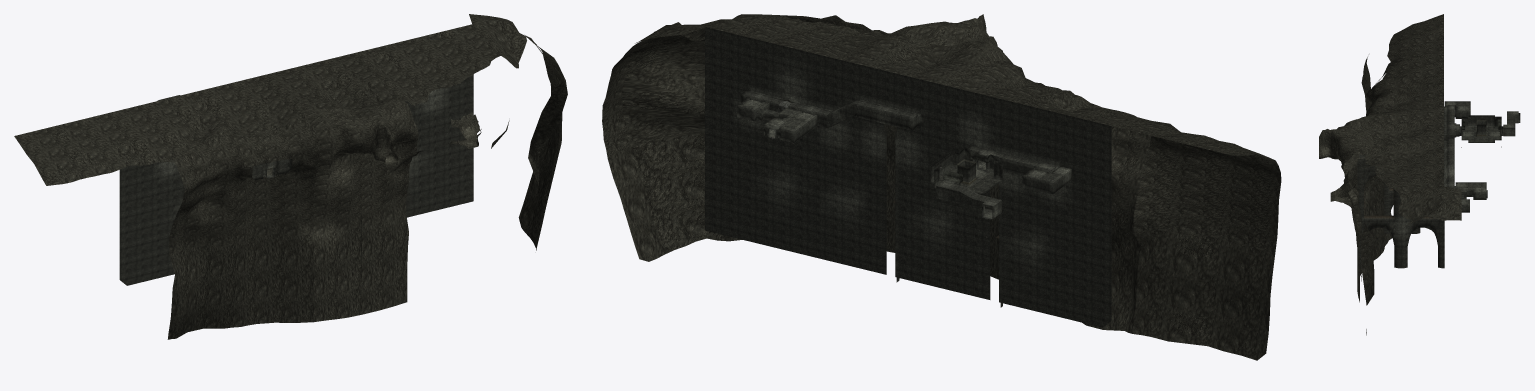
3 renders of one model, left to right at view 1: azimuth 30°, elevation 25°; view 2: azimuth 150°, elevation 25°; view 3: azimuth 270°, elevation 25°, orthographic. The views are drawn at different scales.
Visible parts, largest first — view 1: Chunk-19_Mesh-0, Chunk-28_Mesh-0, Chunk-18_Mesh-0, Chunk-3_Mesh-1, Chunk-0_Mesh-2, Chunk-34_Mesh-0, Chunk-7_Mesh-2; view 2: Chunk-0_Mesh-2, Chunk-32_Mesh-0, Chunk-34_Mesh-0, Chunk-3_Mesh-1, Chunk-19_Mesh-0, Chunk-1_Mesh-1, Chunk-4_Mesh-1, Chunk-2_Mesh-1, Chunk-28_Mesh-0, Chunk-18_Mesh-0, Chunk-33_Mesh-0, Chunk-9_Mesh-1 (+6 smaller); view 3: Chunk-19_Mesh-0, Chunk-5_Mesh-0, Chunk-18_Mesh-0, Chunk-28_Mesh-0, Chunk-33_Mesh-0, Chunk-9_Mesh-0, Chunk-9_Mesh-1, Chunk-12_Mesh-1, Chunk-29_Mesh-0, Chunk-32_Mesh-0, Chunk-12_Mesh-0, Chunk-17_Mesh-0 (+5 smaller).
Boxes of the visible parts, left/top/right/bottom form: Chunk-19_Mesh-0: left=14, top=14, right=526, bottom=185; Chunk-28_Mesh-0: left=167, top=115, right=320, bottom=339; Chunk-18_Mesh-0: left=302, top=98, right=418, bottom=321; Chunk-3_Mesh-1: left=405, top=24, right=473, bottom=217; Chunk-0_Mesh-2: left=119, top=162, right=184, bottom=285; Chunk-34_Mesh-0: left=518, top=35, right=567, bottom=250; Chunk-7_Mesh-2: left=252, top=159, right=292, bottom=180; Chunk-0_Mesh-2: left=938, top=84, right=1111, bottom=327; Chunk-32_Mesh-0: left=1132, top=136, right=1281, bottom=360; Chunk-34_Mesh-0: left=602, top=14, right=742, bottom=261; Chunk-3_Mesh-1: left=705, top=27, right=791, bottom=249; Chunk-19_Mesh-0: left=635, top=14, right=1268, bottom=158; Chunk-1_Mesh-1: left=857, top=67, right=938, bottom=287; Chunk-4_Mesh-1: left=782, top=46, right=834, bottom=261; Chunk-2_Mesh-1: left=826, top=58, right=869, bottom=270; Chunk-28_Mesh-0: left=995, top=60, right=1151, bottom=333; Chunk-18_Mesh-0: left=899, top=18, right=1010, bottom=279; Chunk-33_Mesh-0: left=742, top=14, right=904, bottom=252; Chunk-9_Mesh-1: left=930, top=148, right=1002, bottom=187; Chunk-19_Mesh-0: left=1352, top=14, right=1461, bottom=221; Chunk-5_Mesh-0: left=1357, top=158, right=1444, bottom=268; Chunk-18_Mesh-0: left=1329, top=114, right=1378, bottom=302; Chunk-28_Mesh-0: left=1359, top=78, right=1395, bottom=260; Chunk-33_Mesh-0: left=1340, top=165, right=1374, bottom=335; Chunk-9_Mesh-0: left=1461, top=115, right=1501, bottom=142; Chunk-9_Mesh-1: left=1461, top=116, right=1501, bottom=134; Chunk-12_Mesh-1: left=1455, top=182, right=1486, bottom=204; Chunk-29_Mesh-0: left=1384, top=183, right=1420, bottom=233; Chunk-32_Mesh-0: left=1361, top=57, right=1390, bottom=211; Chunk-12_Mesh-0: left=1455, top=183, right=1486, bottom=212; Chunk-17_Mesh-0: left=1322, top=129, right=1332, bottom=158.
Size of the model in its own units: 28850 by 11443 by 12133.
Materials: 18 (18 with a texture image).
